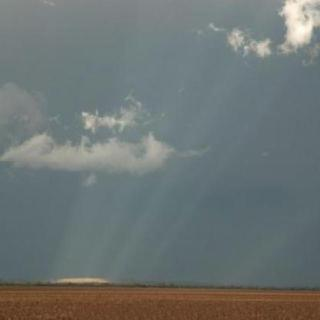Cumulus: (21, 7, 320, 188)
